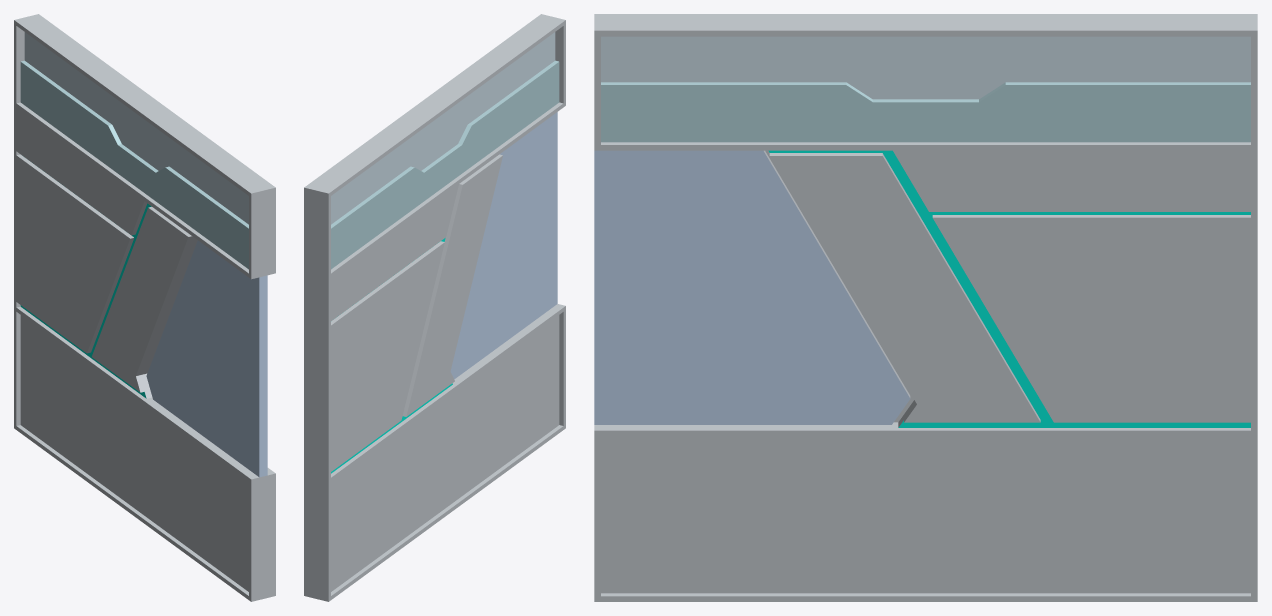
File: window-06-right.fbx
3 views of the same model, side by side, from view 1: azimuth 30°, elevation 25°; view 2: azimuth 150°, elevation 25°; view 3: azimuth 270°, elevation 25° (orthographic). The views are drawn at different scales.
Visible parts, largest first — view 1: window-06-right; view 2: window-06-right; view 3: window-06-right.
Part boxes in pixels (x1=…): window-06-right: x1=14, y1=14, x2=275, y2=601; window-06-right: x1=304, y1=14, x2=565, y2=601; window-06-right: x1=594, y1=14, x2=1257, y2=601.
Size of the model in its own units: 6 by 95 by 100.
